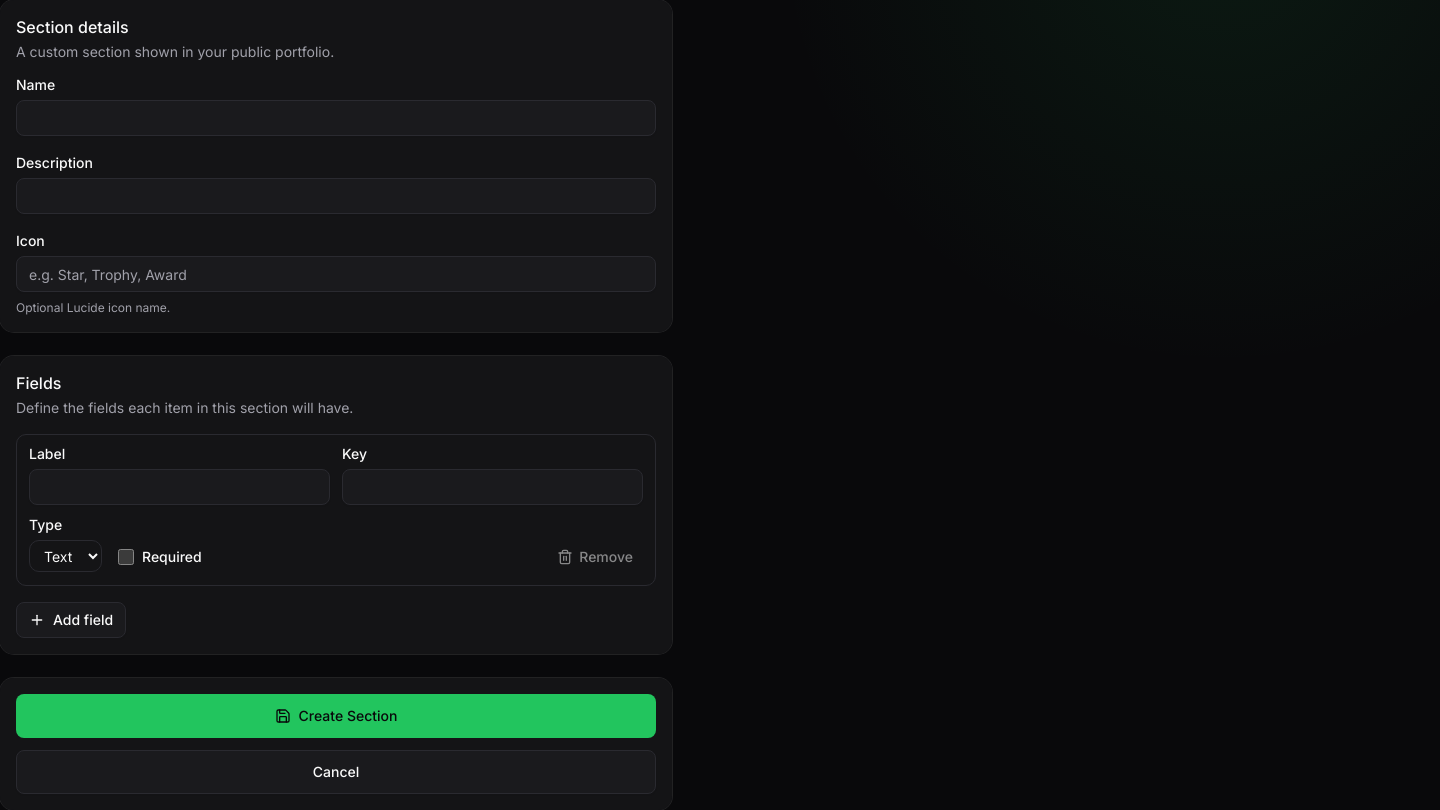
Test: SectionForm › rejects an invalid key pattern on submit
Type "Awards" into the field named "Section name" at (336,118), box [16,100,656,136]
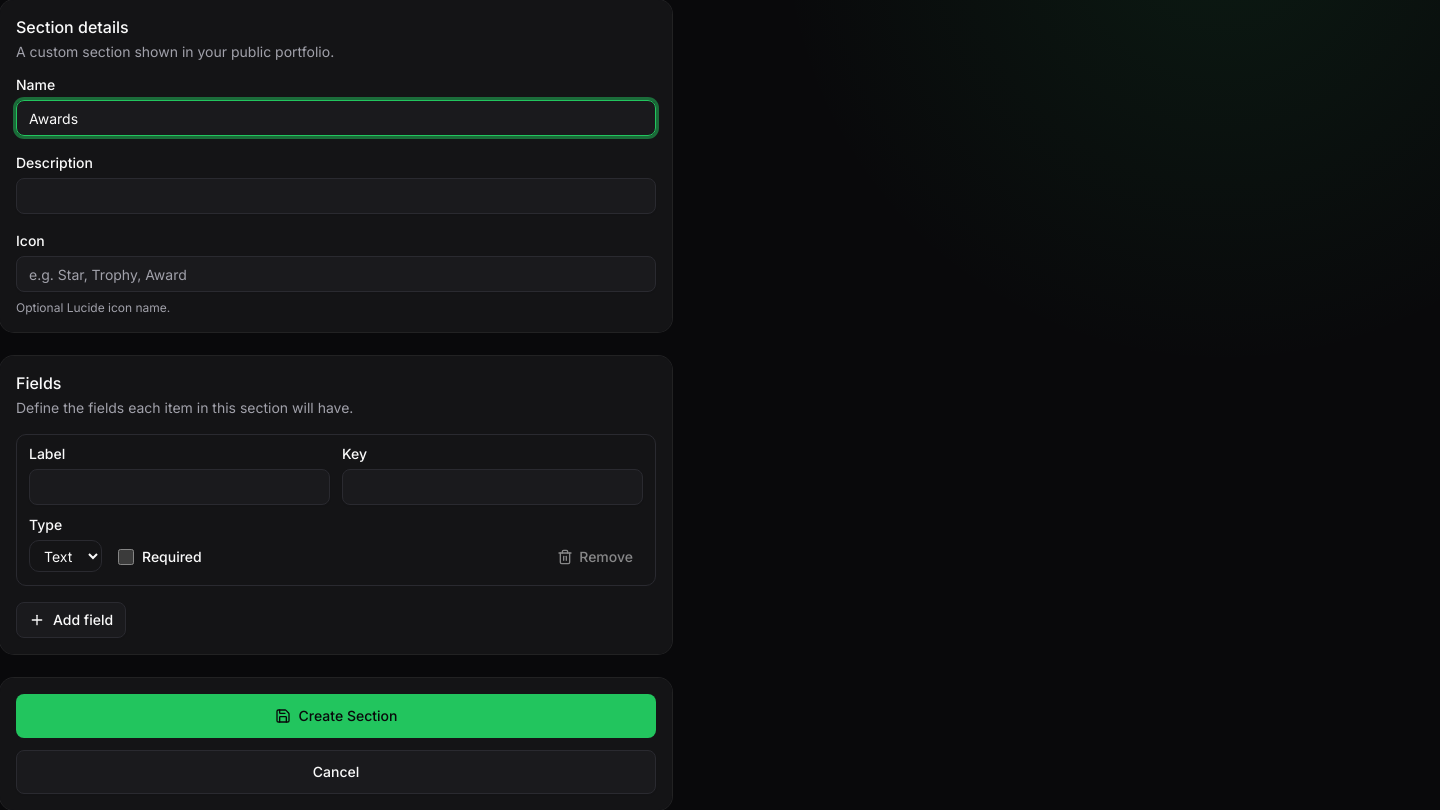
Type "Title" into the field named "Field label" at (180,487), box [29,469,330,505]
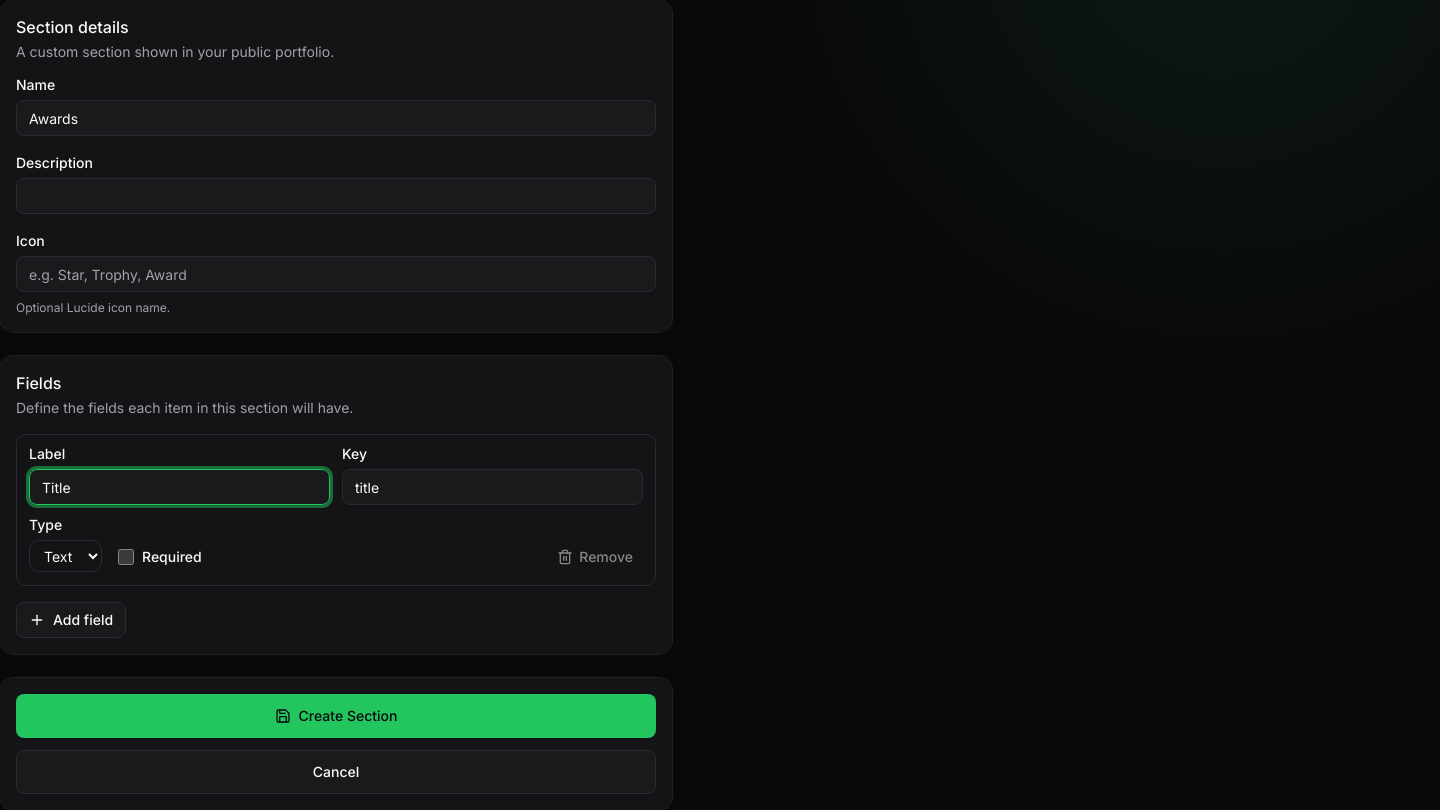
Replace the text in the field named "Field key" with "1bad" at (492,487), box [342,469,643,505]
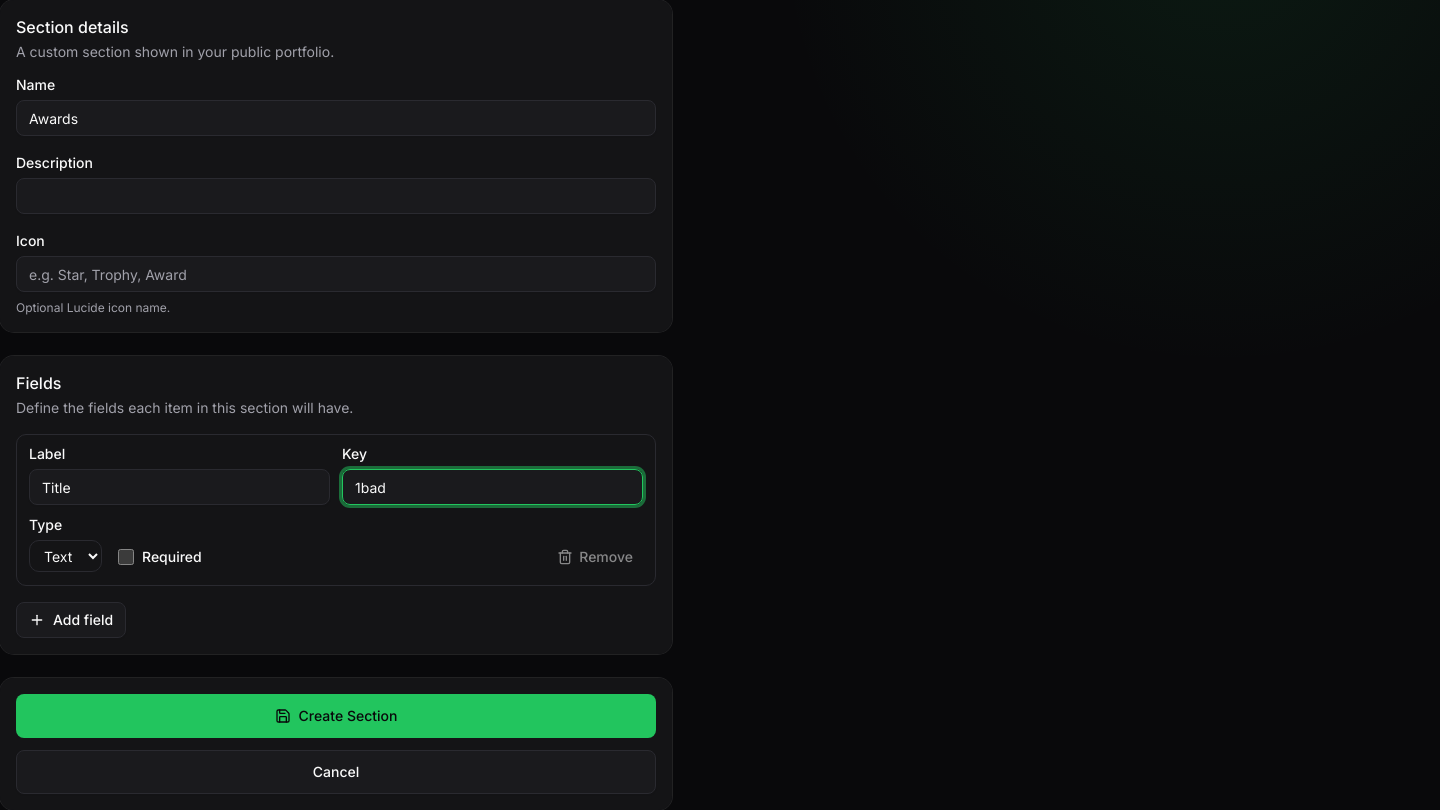
Click the button "Create Section" at (336,716), box [16,694,656,738]
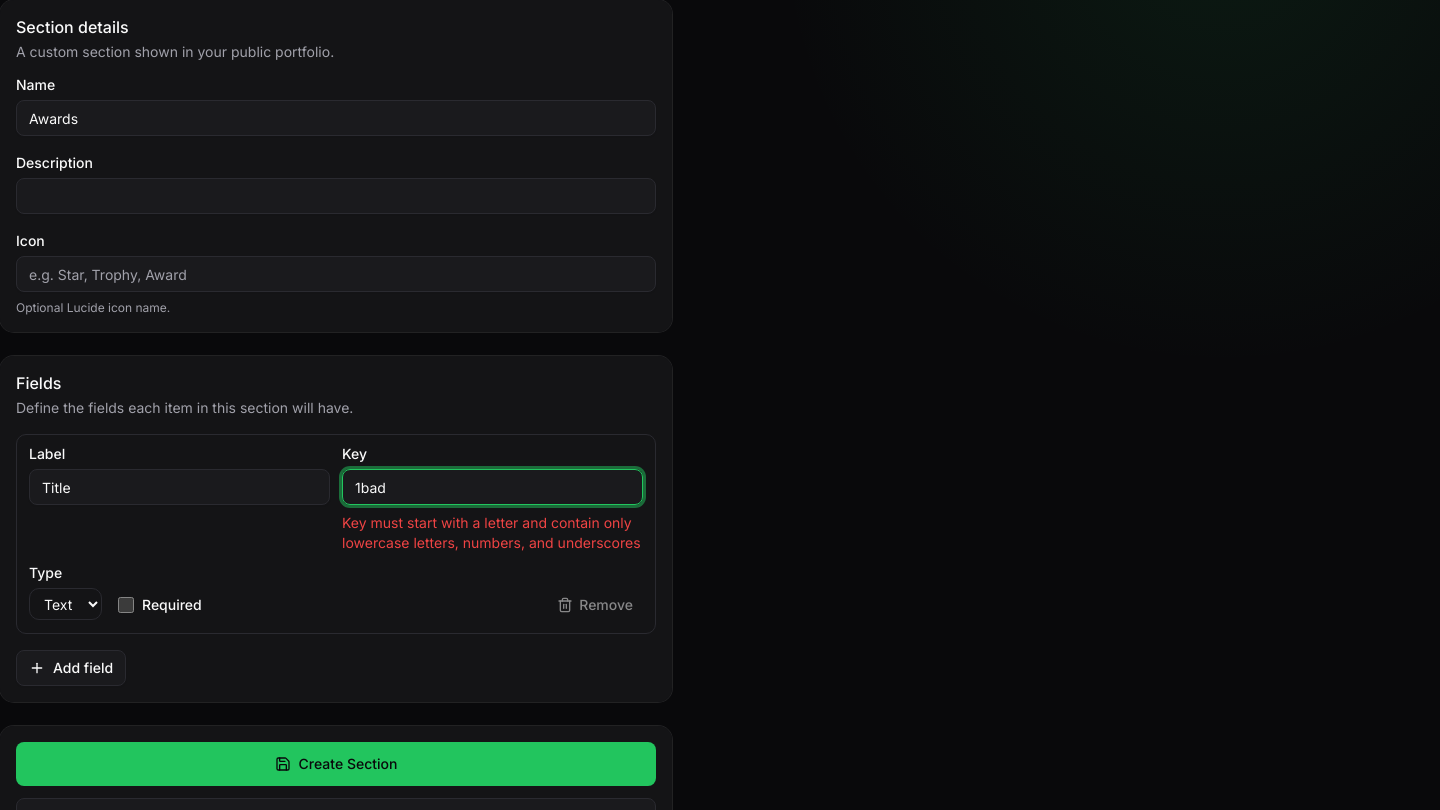
Result: the text "Key must start with a letter" is shown at [342,514,640,551]
